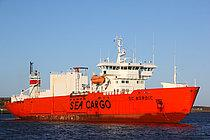Ship: (5, 35, 203, 127)
